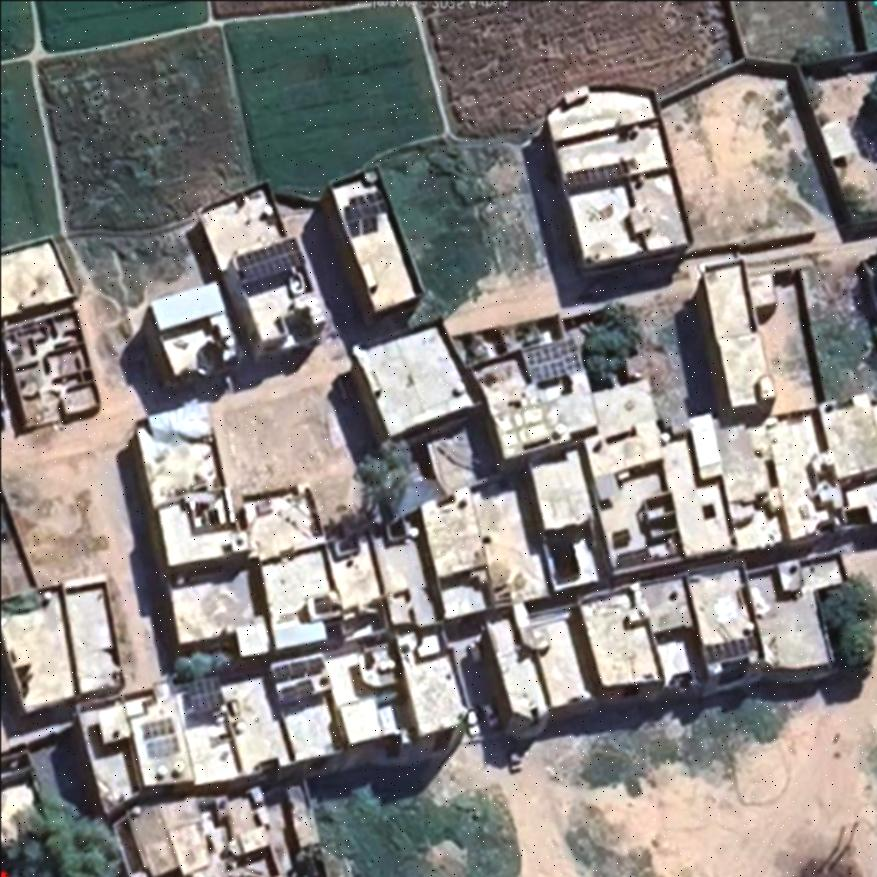Solarpanel: (237, 239, 303, 278), (521, 342, 584, 381), (567, 159, 627, 188), (186, 675, 222, 714), (274, 657, 324, 681), (349, 191, 385, 221)
